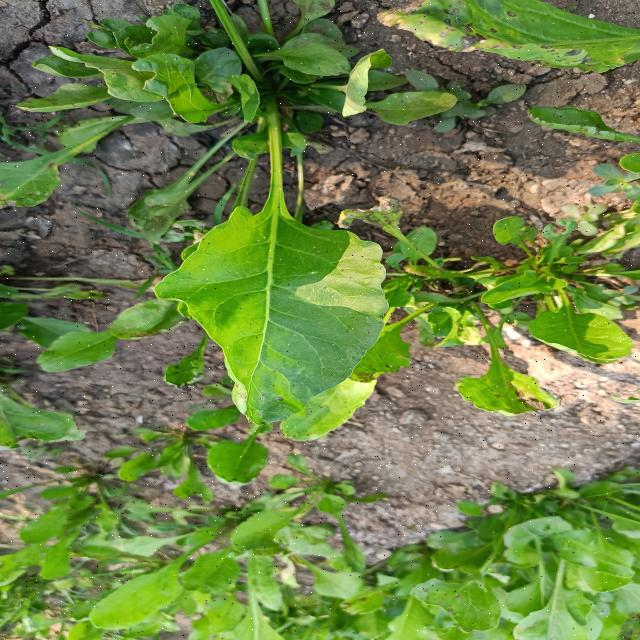leaves: (150, 105, 441, 434), (50, 291, 158, 415), (468, 312, 575, 428), (286, 42, 413, 121), (531, 273, 636, 365), (192, 414, 309, 486), (167, 39, 256, 113), (263, 32, 370, 74)
